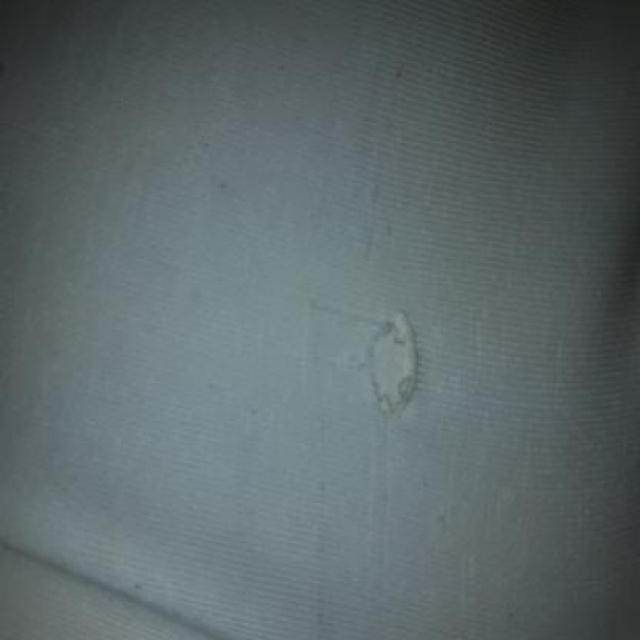other: (358, 310, 427, 419)
